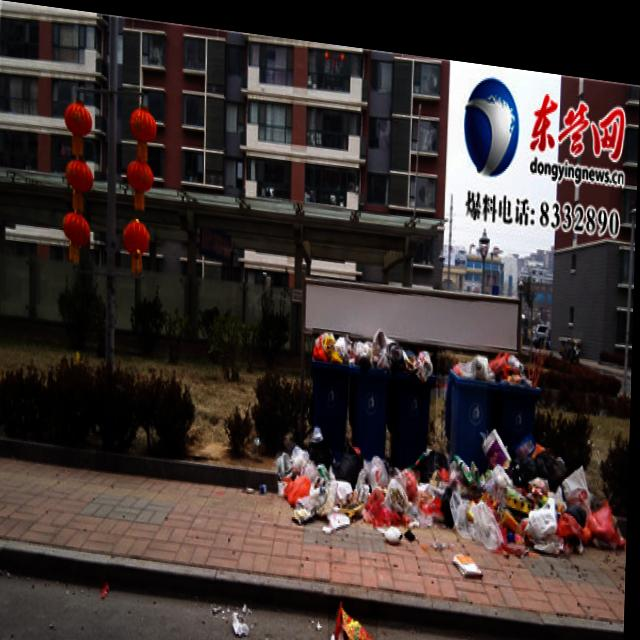garbage: (277, 388, 631, 553), (331, 585, 383, 640)
overflow: (445, 337, 498, 459), (488, 334, 544, 448), (391, 328, 439, 460), (350, 318, 392, 448), (312, 319, 353, 443)
